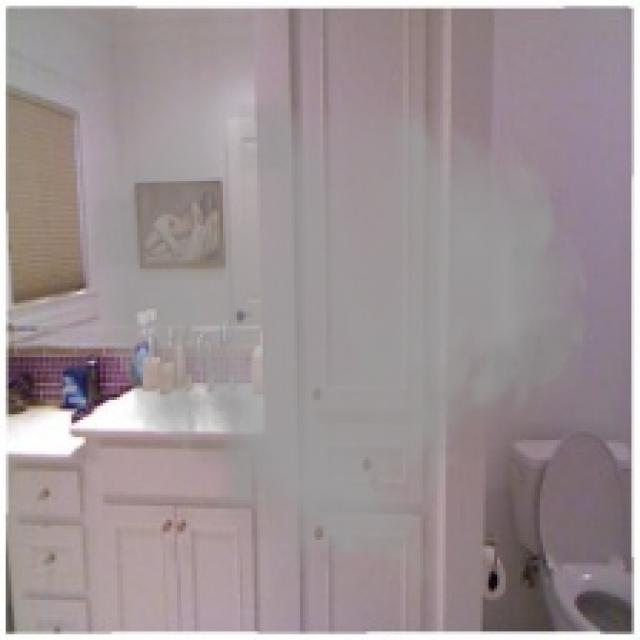smoke: (77, 66, 594, 591)
